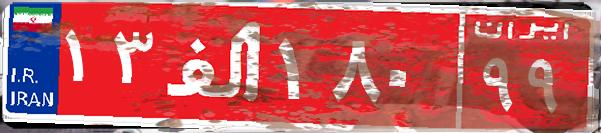0: (385, 28, 445, 110)
1: (273, 28, 330, 110), (57, 26, 110, 107)
3: (110, 28, 158, 105)
8: (330, 28, 385, 110)
9: (475, 38, 525, 113), (525, 38, 570, 115)
الف: (158, 15, 273, 115)
